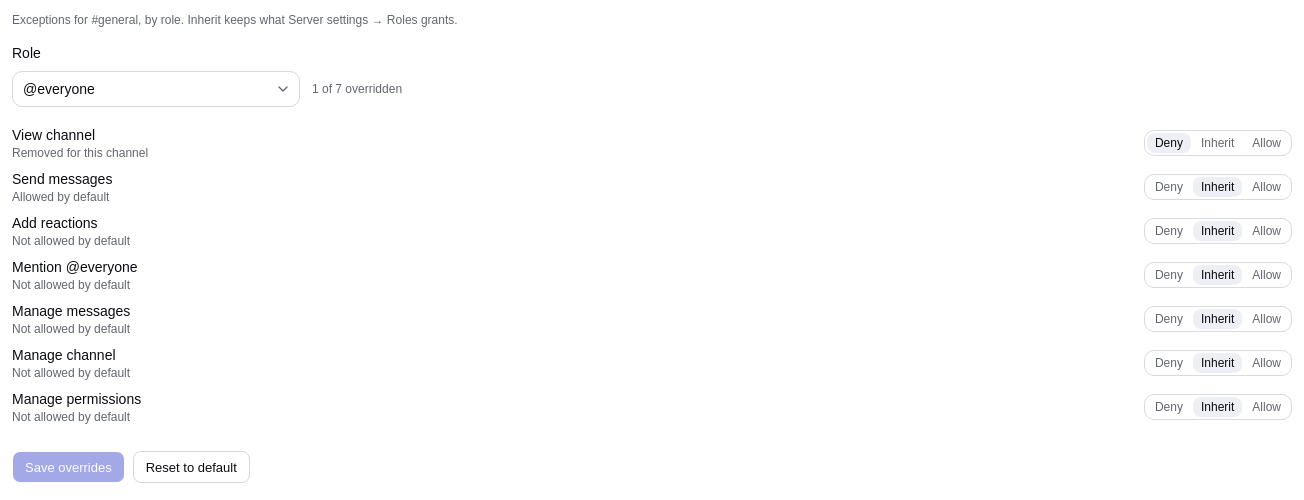
ChannelPermissions › resets the rows without writing anything
The image size is (1304, 500).
Expected: the radio button with aria-label "View channel: Deny" is checked, [1147,133,1191,153]
Click the button "Reset to default" at (191, 467), box [133,451,250,483]
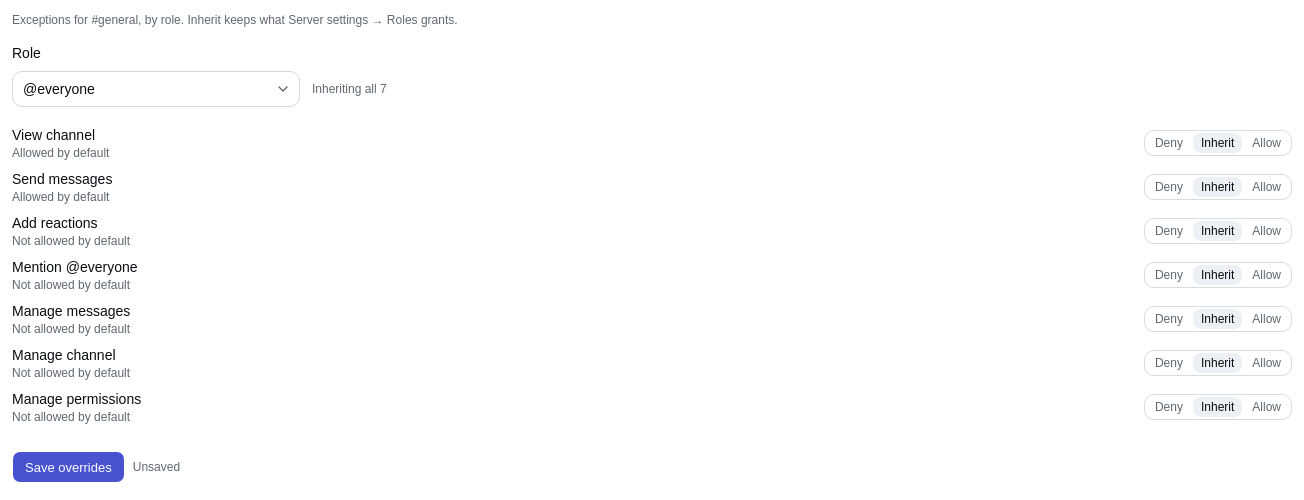
Result: the radio button with aria-label "View channel: Inherit" is checked at [1193,133,1242,153]
